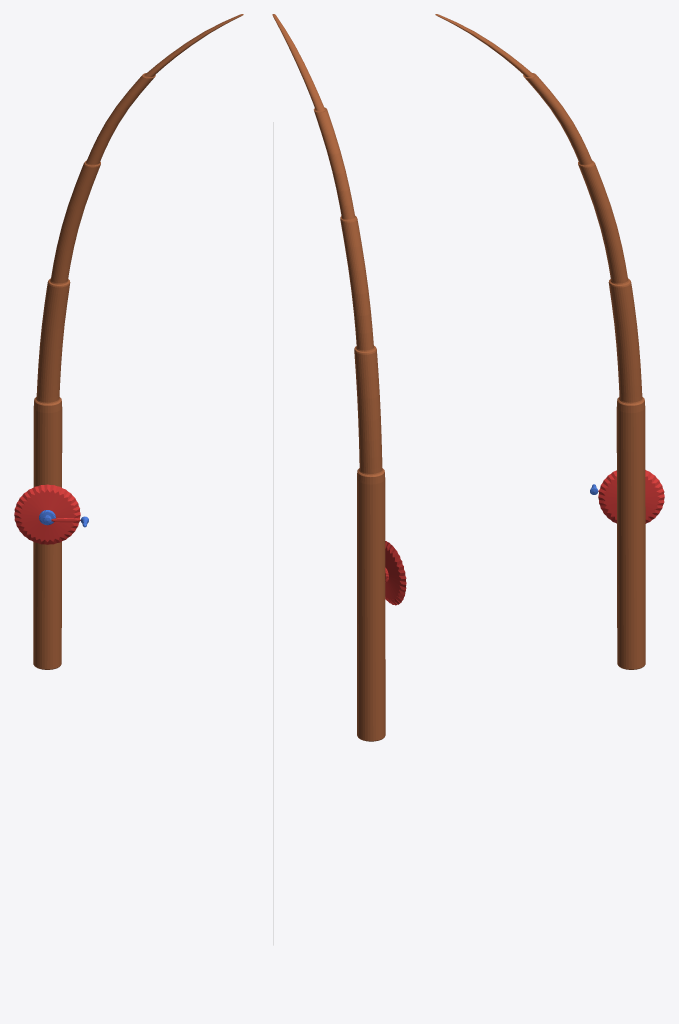
File: rod.fbx
3 views of the same model, side by side, from view 1: azimuth 90°, elevation 25°; view 2: azimuth 210°, elevation 25°; view 3: azimuth 270°, elevation 25° (orthographic).
Visible parts, largest first — view 1: Cylinder; view 2: Cylinder; view 3: Cylinder.
Part boxes in pixels (box(x1,y1,x2,y2)): Cylinder: box(14, 14, 243, 669); Cylinder: box(272, 14, 406, 945); Cylinder: box(435, 14, 664, 669).
Size of the model in its own units: 43.72 by 750 by 157.
